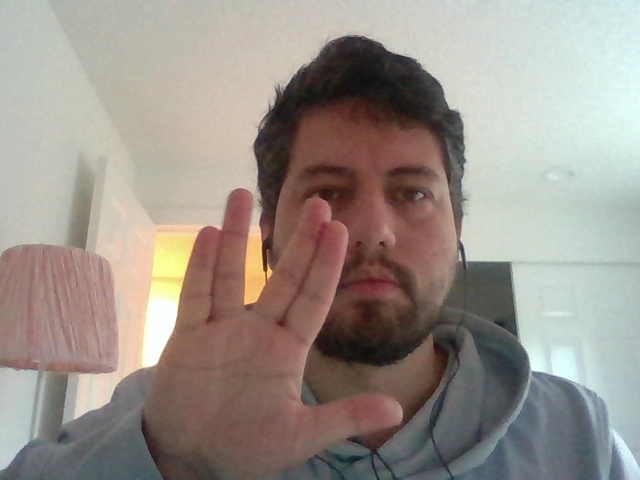LiveLong: (146, 185, 406, 478)
